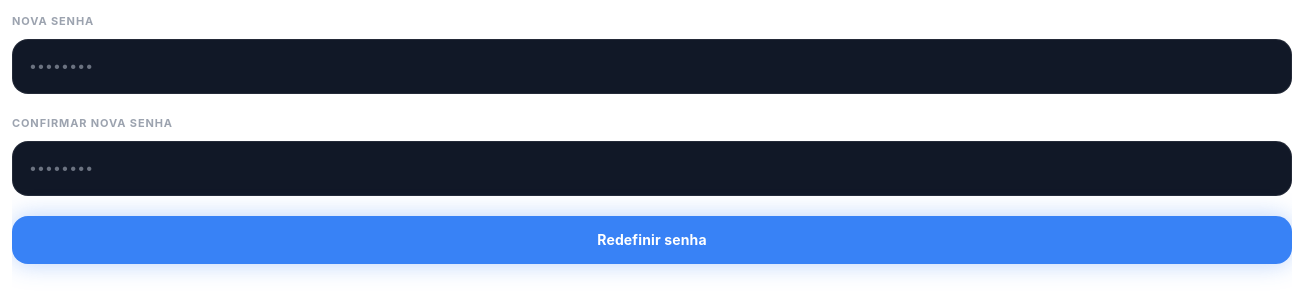
Test: <ResetPasswordForm /> › mostra feedback de erro quando a redefinição falha
Type "12345678" into the password field with placeholder "••••••••" at (652, 66), box [29, 52, 1275, 81]
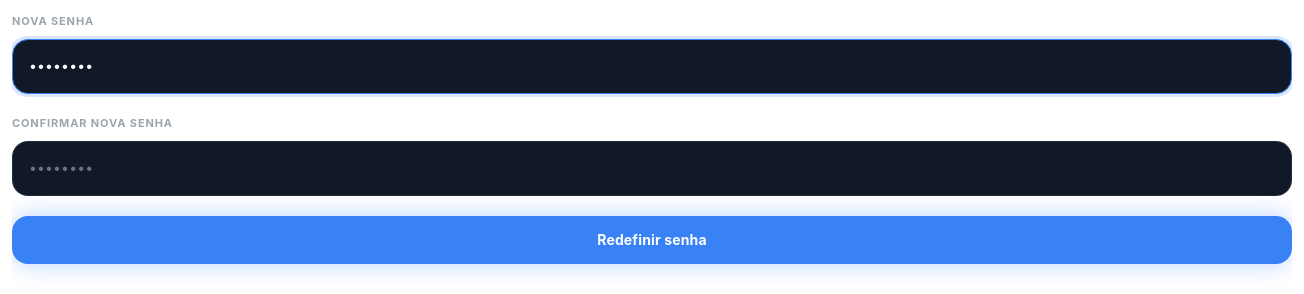
Type "12345678" into the password field with placeholder "••••••••" at (652, 168), box [29, 154, 1275, 183]
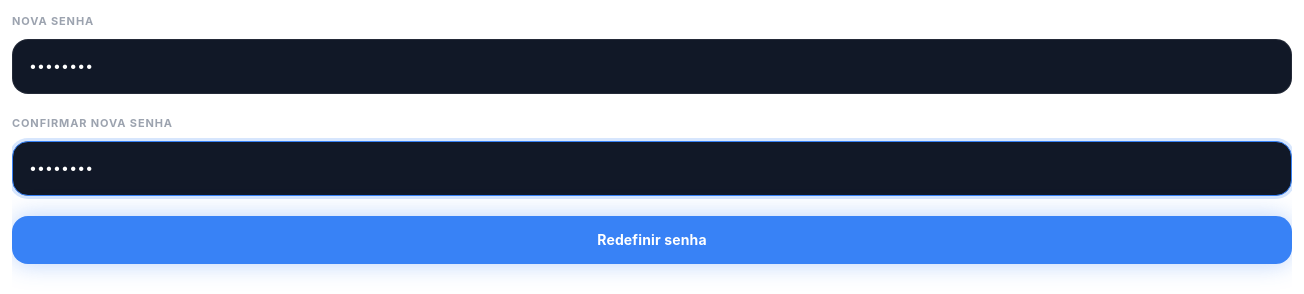
Click the button "Redefinir senha" at (652, 240), box [12, 216, 1292, 264]
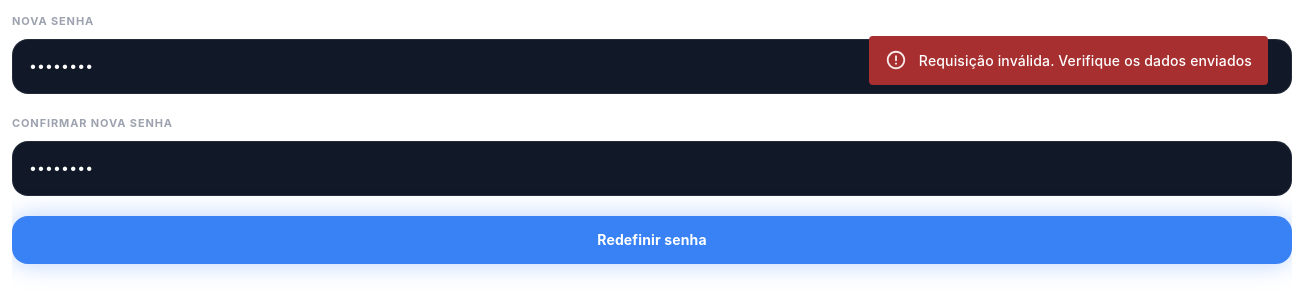
Expected: the text "Requisição inválida. Verifique os dados enviados" is shown, [919, 52, 1252, 69]
